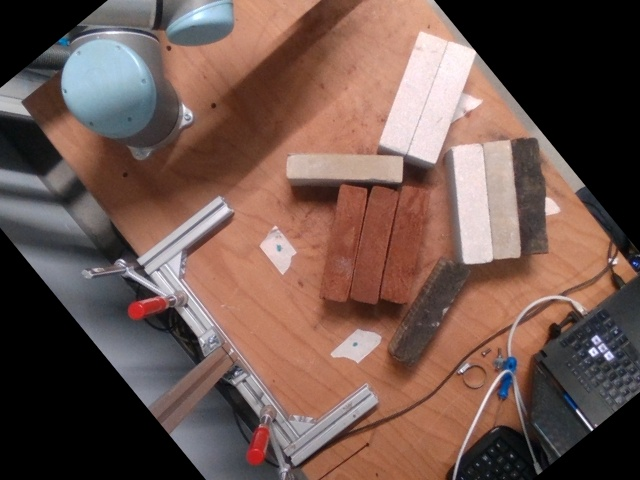brick-side: (410, 46, 475, 161), (382, 37, 444, 150), (397, 265, 467, 361), (382, 187, 428, 301), (352, 187, 396, 301), (324, 187, 365, 300), (457, 146, 491, 259), (487, 144, 520, 257), (515, 140, 547, 251), (293, 157, 400, 177)
